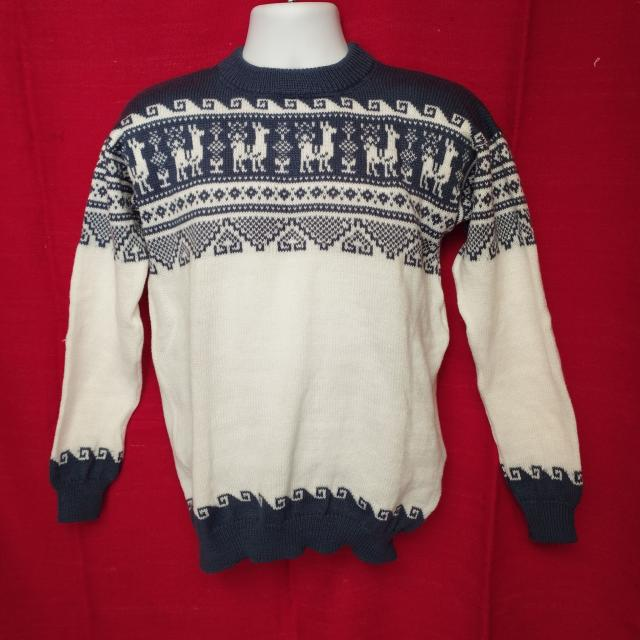Chompa: (48, 1, 584, 574)
